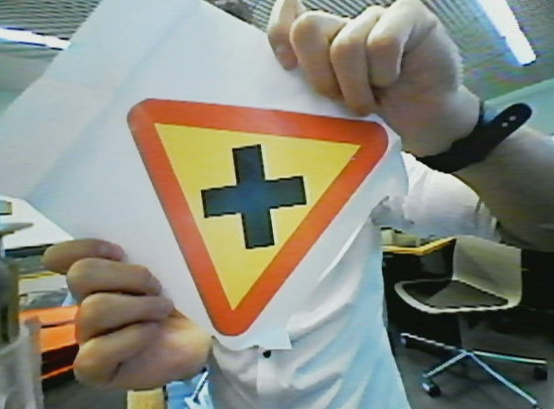junction: (127, 96, 390, 340)
